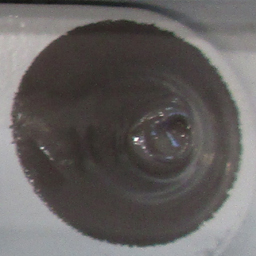perfect: (9, 14, 251, 252)
